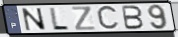9: (146, 4, 169, 31)
B: (121, 5, 145, 30)
C: (96, 4, 121, 32)
L: (48, 6, 71, 31)
N: (21, 7, 49, 32)
Z: (70, 6, 98, 32)
